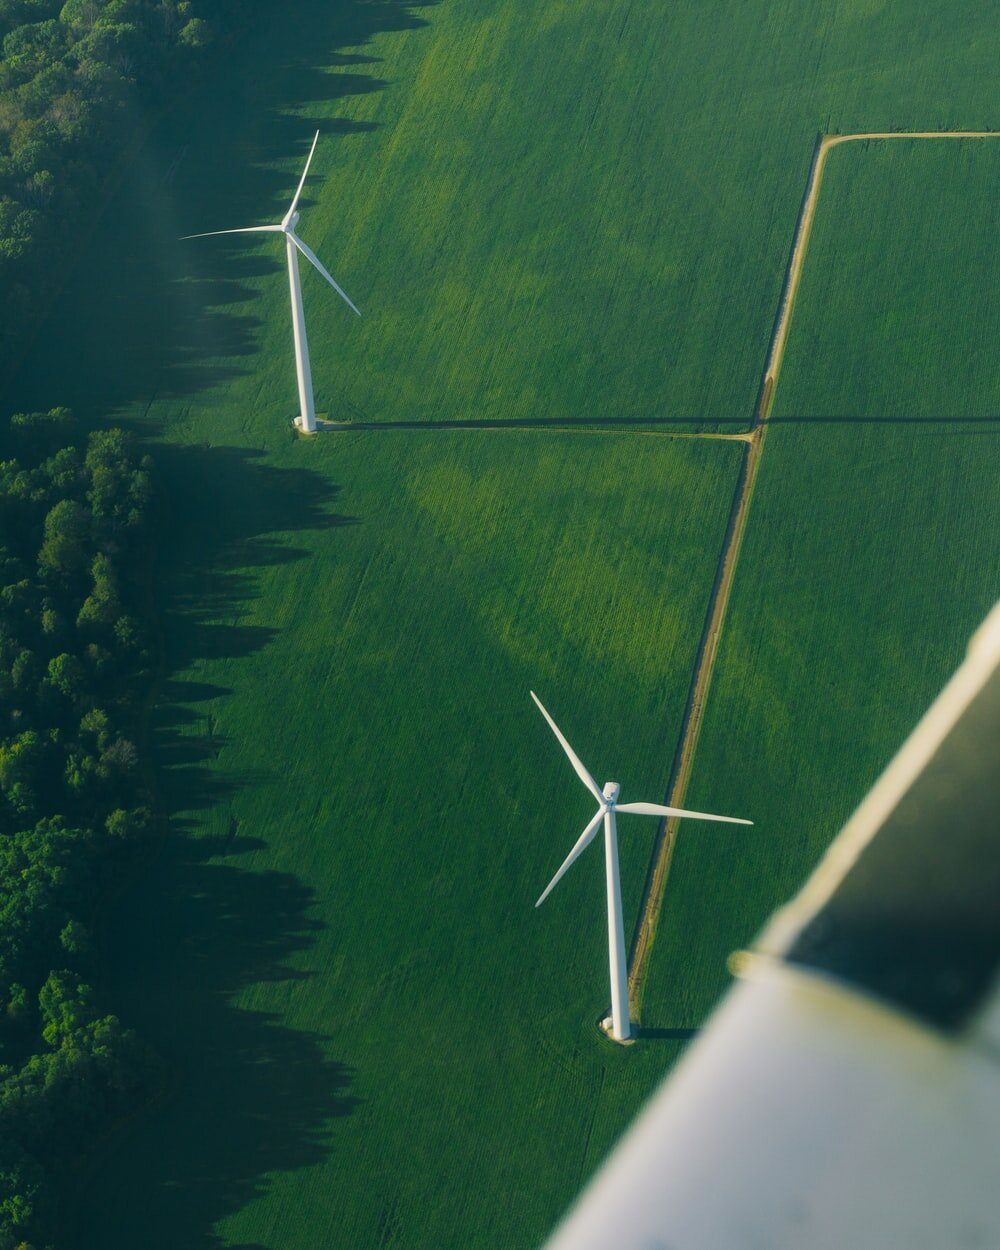working: (494, 678, 766, 924)
